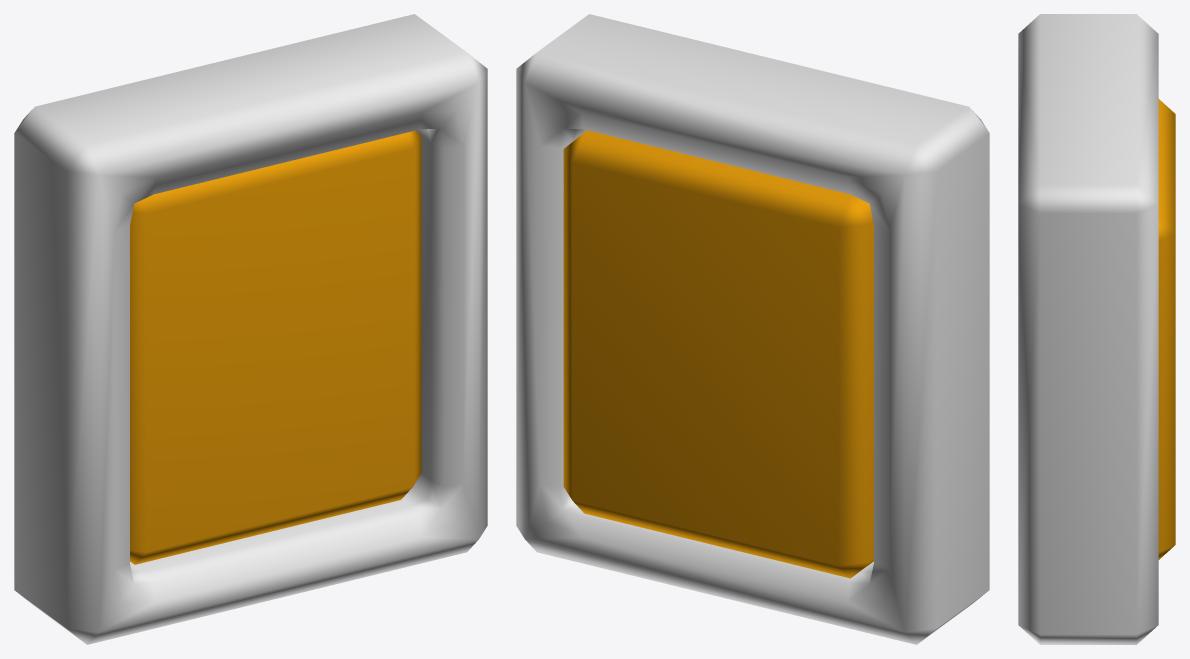
Rendered from SM_Clay_Window_07.fbx.
3 views of the same model, side by side, from view 1: azimuth 30°, elevation 25°; view 2: azimuth 150°, elevation 25°; view 3: azimuth 270°, elevation 25° (orthographic). The views are drawn at different scales.
Visible parts, largest first — view 1: SM_Clay_Window_07; view 2: SM_Clay_Window_07; view 3: SM_Clay_Window_07.
Part boxes in pixels (x1,y1,x2,y2): SM_Clay_Window_07: [14, 14, 487, 644]; SM_Clay_Window_07: [516, 14, 989, 644]; SM_Clay_Window_07: [1018, 14, 1175, 644].
Size of the model in its own units: 0.2929 by 0.3323 by 0.103.
